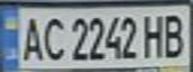2: (66, 12, 90, 62), (84, 12, 106, 62), (121, 11, 142, 61)
4: (103, 12, 124, 61)
A: (18, 12, 45, 63)
B: (160, 10, 190, 58)
C: (39, 12, 66, 62)
H: (139, 11, 169, 60)
